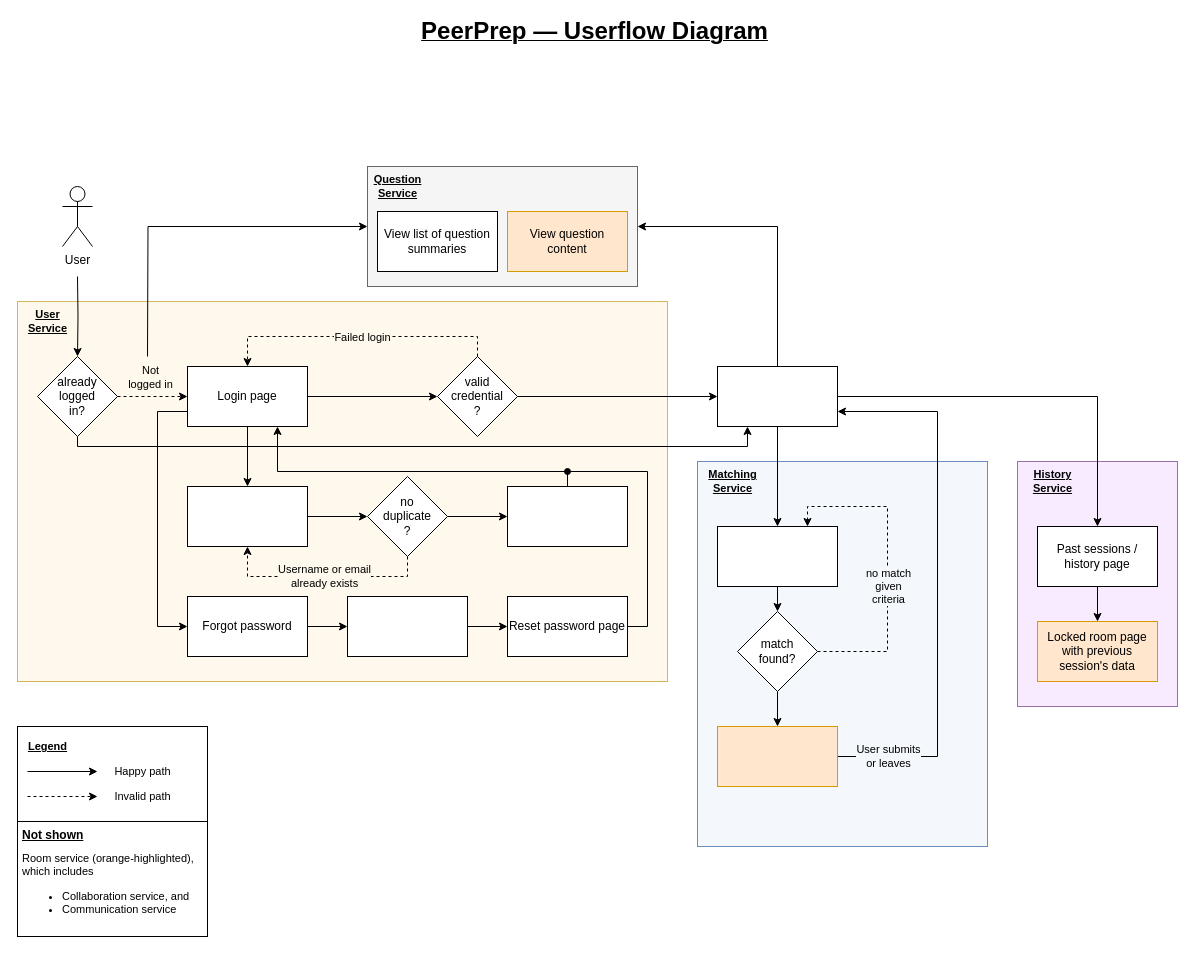
Image size: 1195x954. Some labels were removed from this diagram. The shapes that lost their labels are listed below. From the top down, each one's box as (x1, y1, x2, y2) in pixels, then its label:
(716, 366, 838, 426): Dashboard
(186, 486, 308, 546): Create account
(506, 486, 628, 546): Verify with email
(716, 526, 838, 586): Matching page
(346, 596, 468, 656): Check email to reset password
(716, 726, 838, 786): Room page with peer
